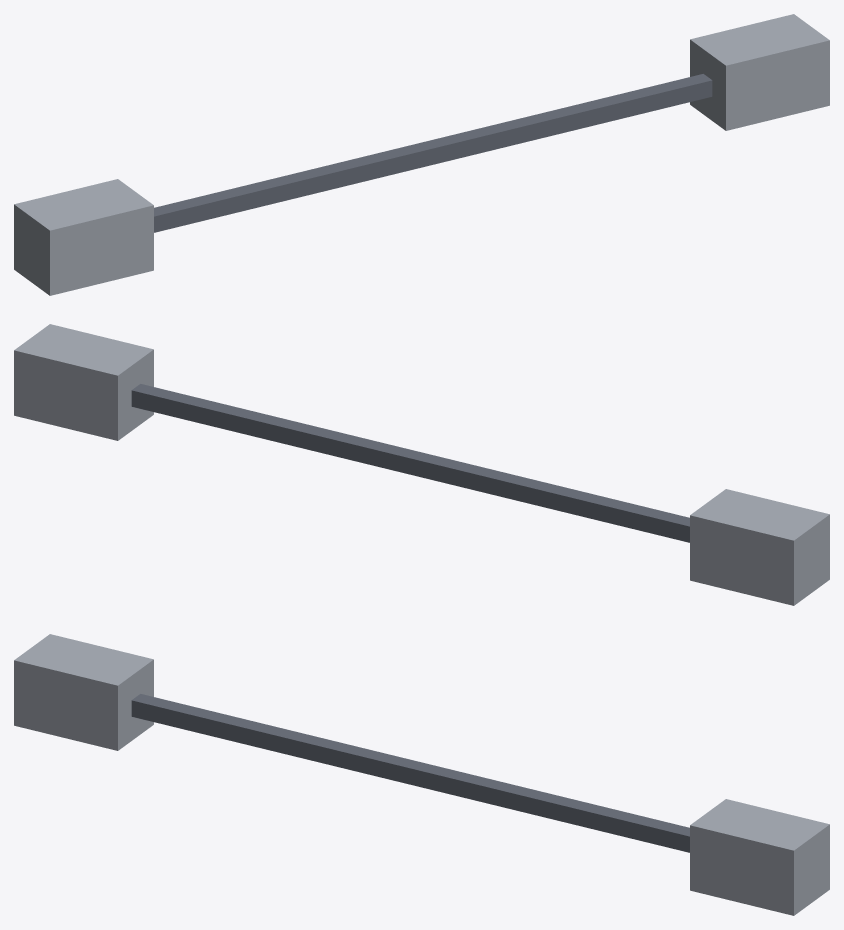
The model's file is cuffs.glb.
3 renders of one model, top to bottom at view 1: azimuth 30°, elevation 25°; view 2: azimuth 150°, elevation 25°; view 3: azimuth 330°, elevation 25°, orthographic.
Visible parts, largest first — view 1: cuffs; view 2: cuffs; view 3: cuffs.
Boxes of the visible parts, box(x1,y1,x2,y2) form: cuffs: box(14, 14, 829, 295); cuffs: box(14, 324, 829, 605); cuffs: box(14, 634, 829, 915).
Bounding box in the file's own units: 0.75 × 0.06 × 0.06.
Materials: 1 (1 with a texture image).
